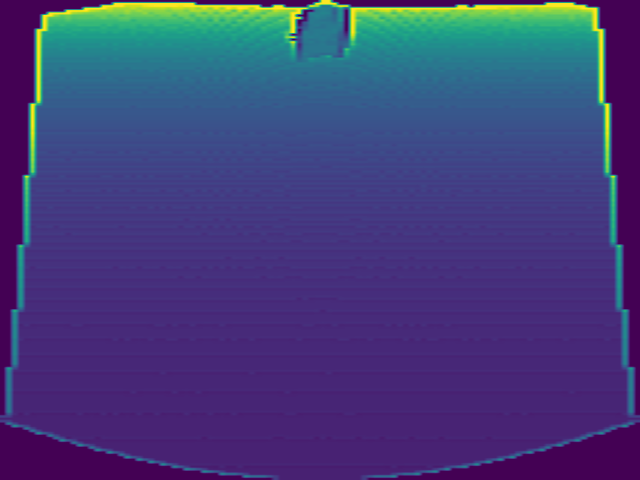car_0027: (289, 1, 357, 63)
